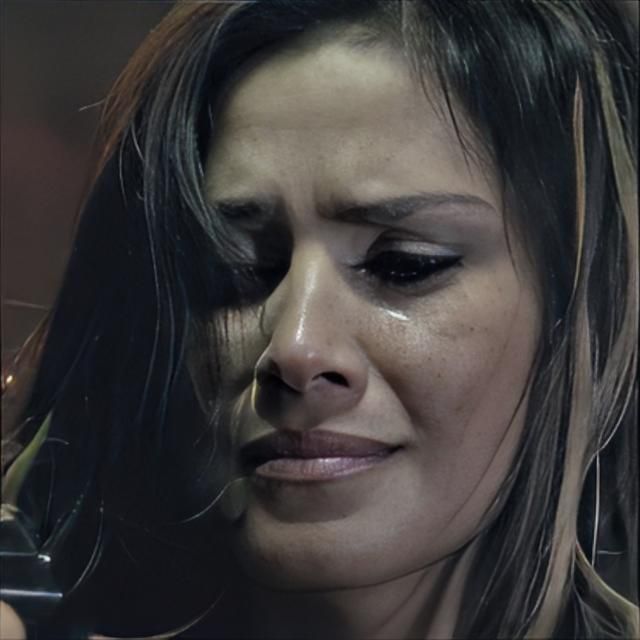sad: (165, 21, 550, 596)
